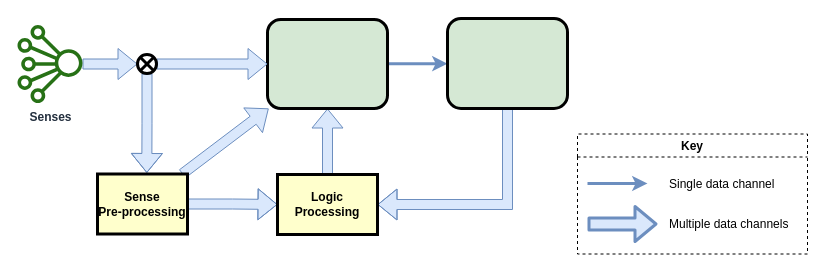
The diagram is 825 pixels wide and 272 high, and some of its shapes have lost their labels. Here are the shapes that lost their labels. From the top down, the centre of each, then its label:
At (327,64): "Attention Control".
At (507,63): "Working Memory".
